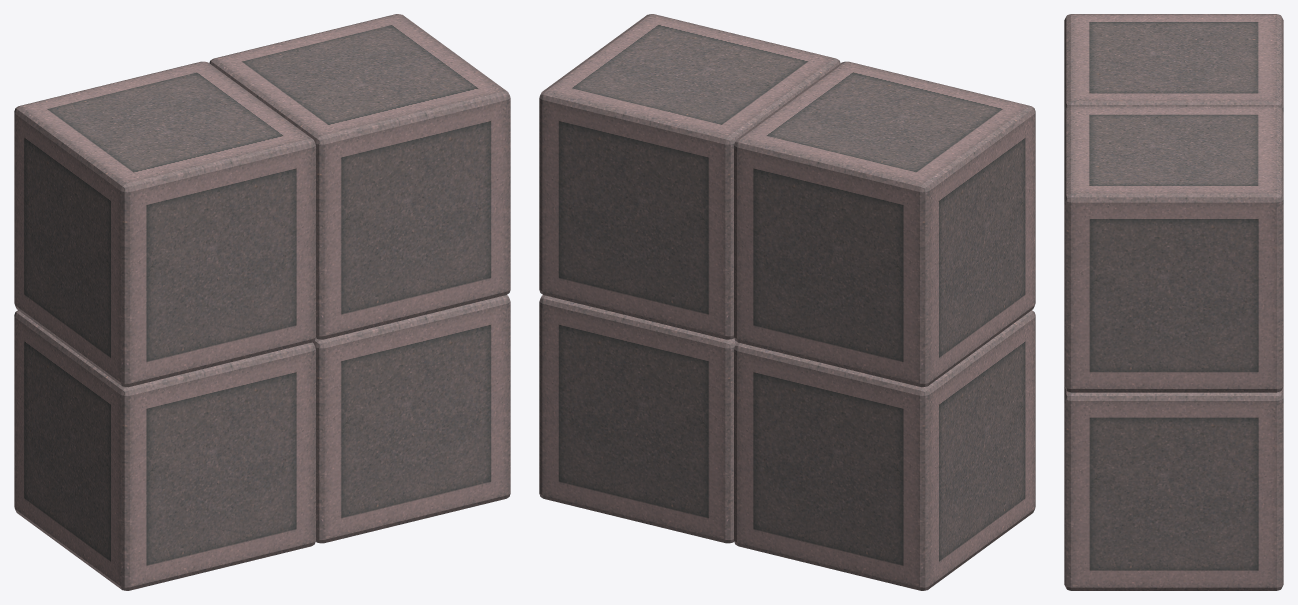
The picture shows the model from 3 angles, left to right: view 1: azimuth 30°, elevation 25°; view 2: azimuth 150°, elevation 25°; view 3: azimuth 270°, elevation 25°; orthographic projection. The views are drawn at different scales.
Parts seen in each view (by area): view 1: module_carre; view 2: module_carre; view 3: module_carre.
Part boxes in pixels (box(x1,y1,x2,y2)): module_carre: box(14, 14, 510, 590); module_carre: box(539, 14, 1035, 590); module_carre: box(1064, 14, 1283, 590).
Bounding box in the file's own units: 200 × 200 × 100.
